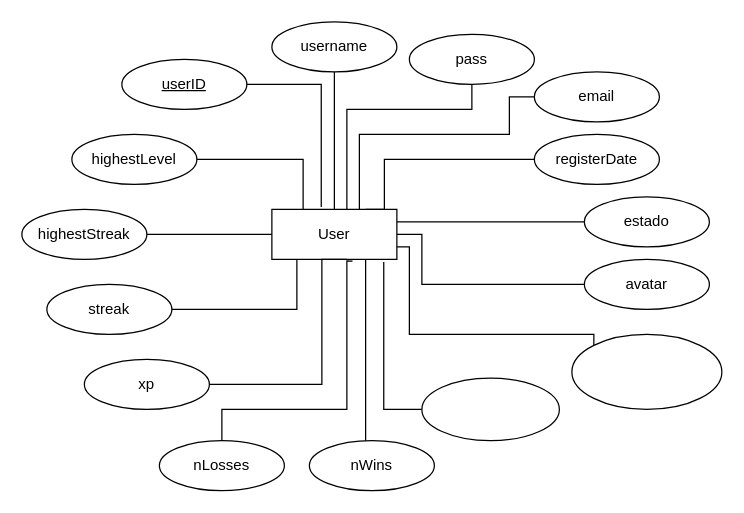
This 744x513 diagram has some shape labels left out. Here are the shapes that lost their labels. From the top down, the centre of each, then its label:
At [646,371]: "selectionBackground".
At [490,409]: "battleBackground".
